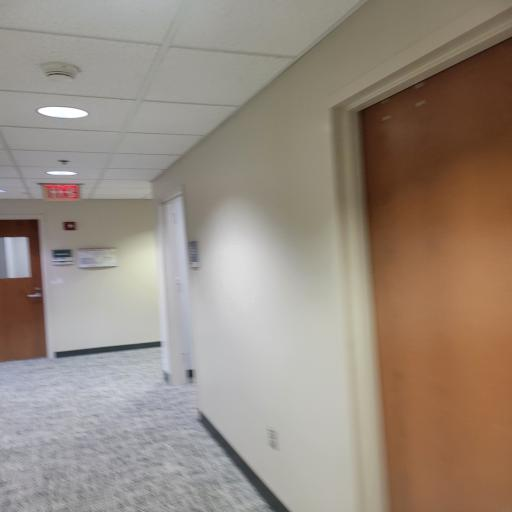door: (0, 215, 44, 363)
exit sign: (33, 180, 89, 200)
fire alarm signal: (56, 222, 84, 234)
table: (326, 51, 512, 512)
